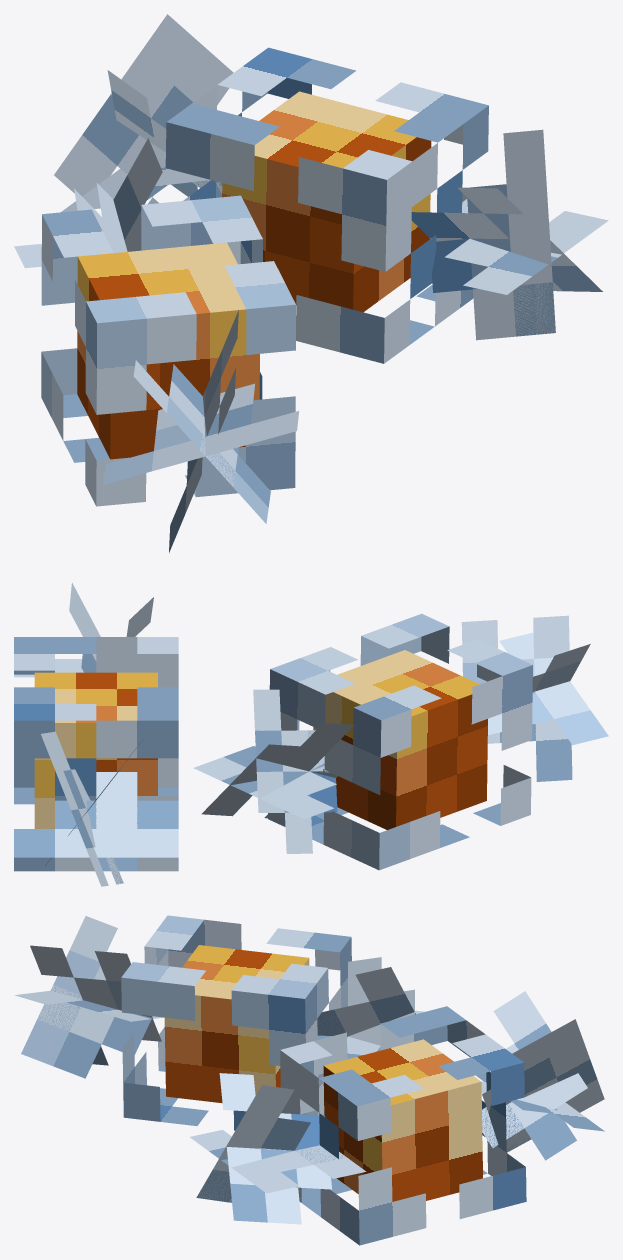
The model's file is candy.obj.
3 renders of one model, top to bottom at view 1: azimuth 30°, elevation 25°; view 2: azimuth 150°, elevation 25°; view 3: azimuth 270°, elevation 25°, orthographic. The views are drawn at different scales.
Parts seen in each view (by area): view 1: cube; view 2: cube; view 3: cube.
Part boxes in pixels (bbox=[...]): cube: bbox=[14, 14, 608, 552]; cube: bbox=[14, 583, 608, 886]; cube: bbox=[15, 915, 604, 1245].
Size of the model in its own units: 0.8797 by 0.3104 by 0.9644.
Materials: 1 (1 with a texture image).
